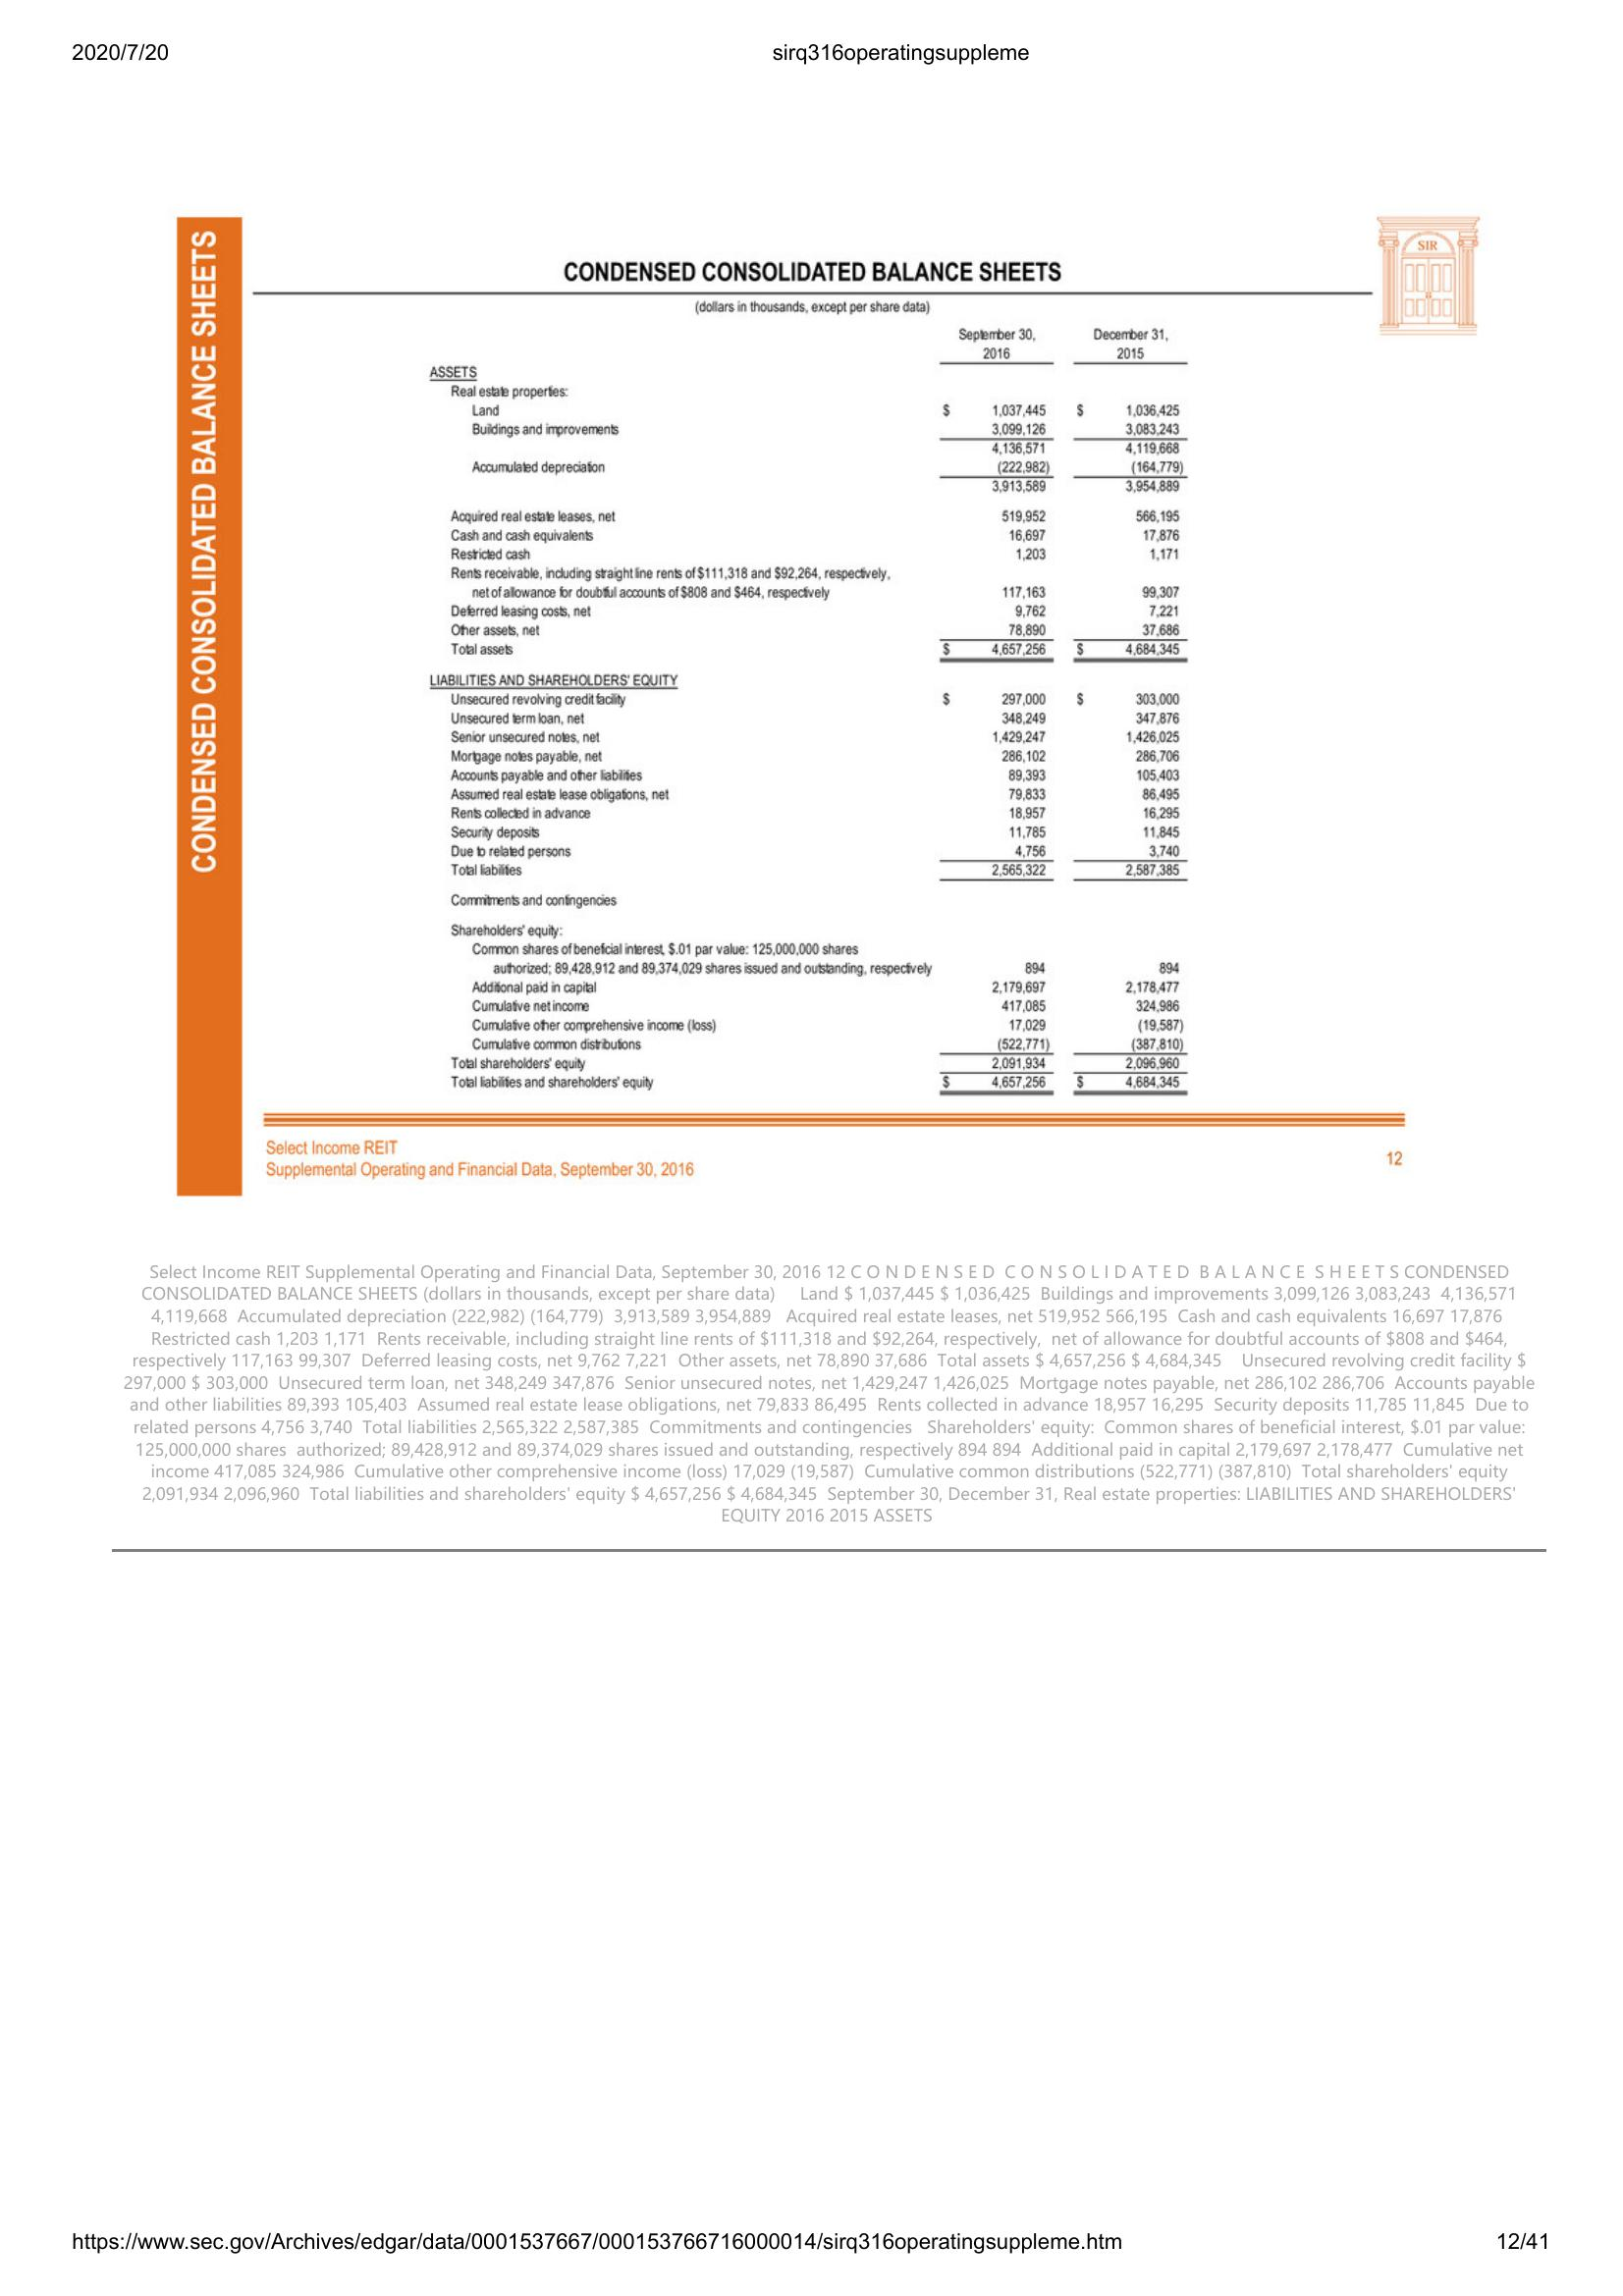table: (422, 318, 1196, 1104)
